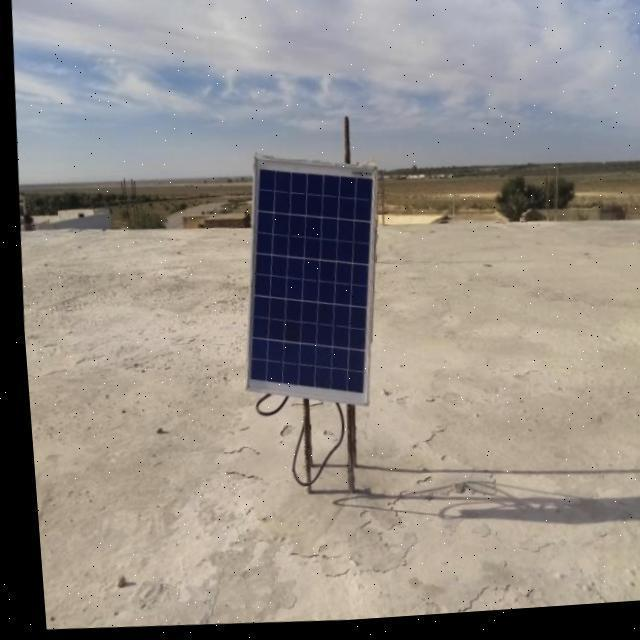Normal Solar Panel: (224, 152, 386, 416)
